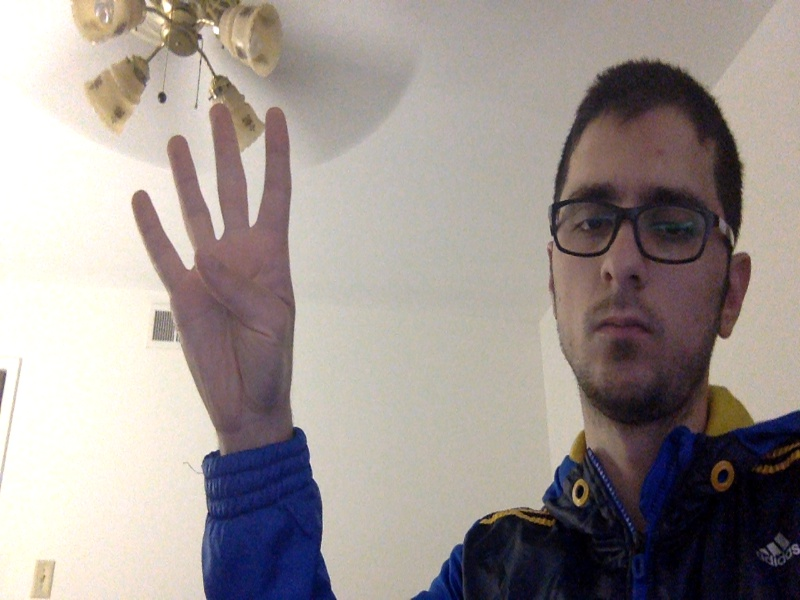4-hand: (129, 103, 295, 416)
